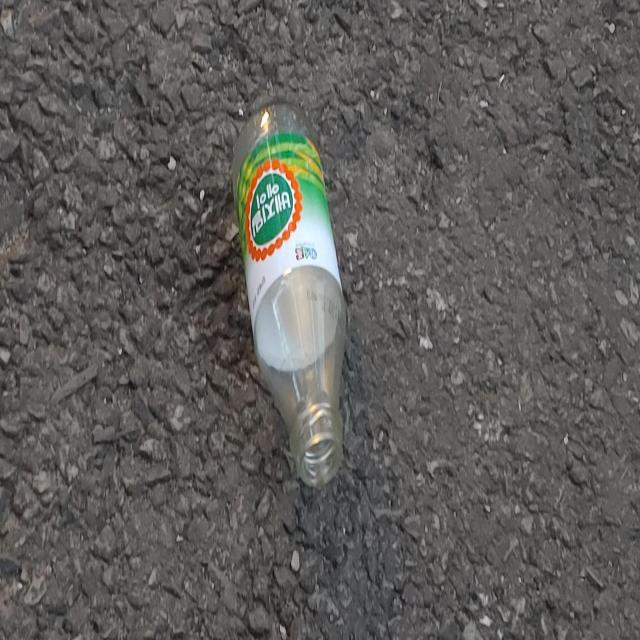glass: (233, 102, 346, 487)
